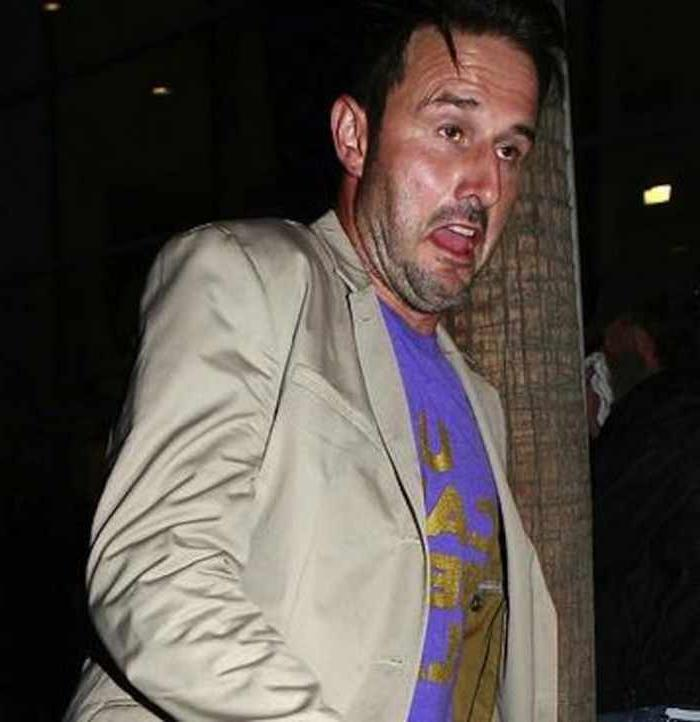Drunk: (386, 30, 525, 296)
